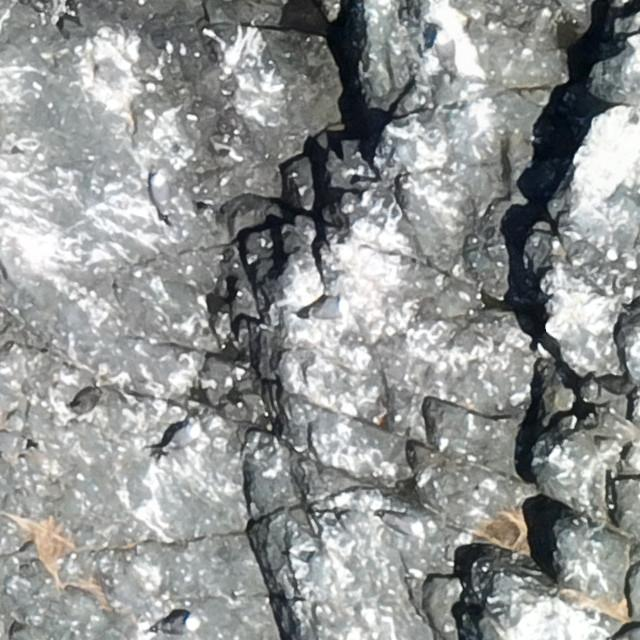umineko: (161, 423, 205, 458), (435, 27, 459, 78), (378, 512, 426, 535), (155, 614, 201, 636), (305, 298, 345, 318), (151, 173, 168, 214), (1, 432, 25, 452)
